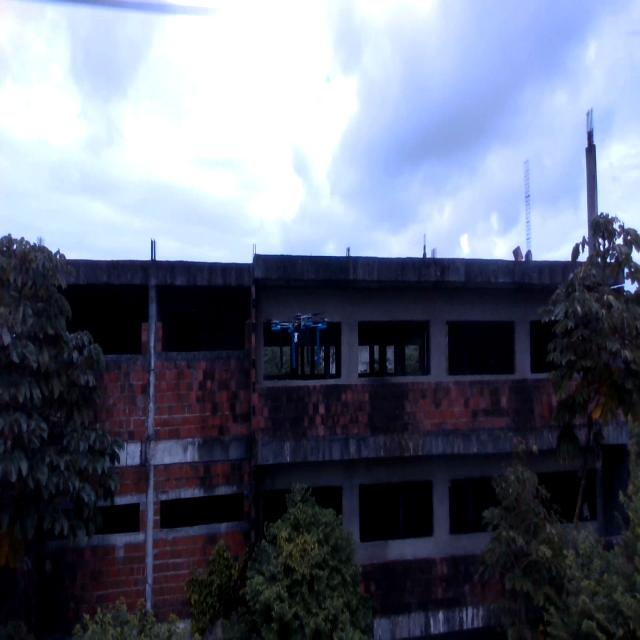-uav-: (260, 308, 342, 378)
